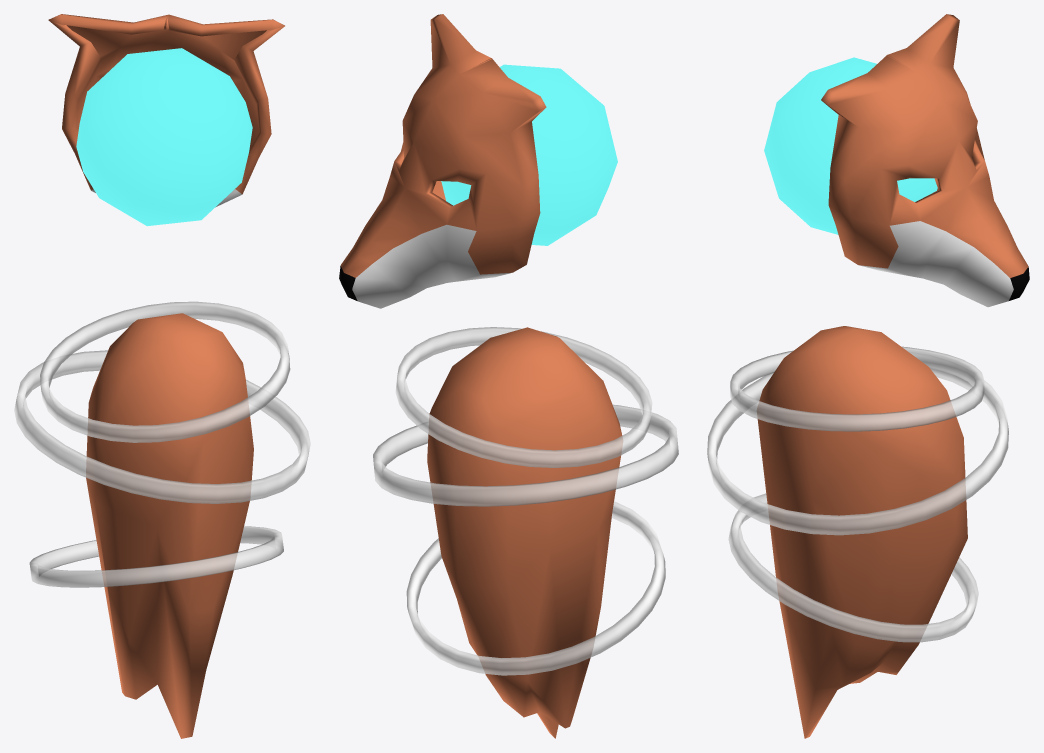
The model's file is Venn Spirit.fbx.
3 renders of one model, left to right at view 1: azimuth 30°, elevation 25°; view 2: azimuth 150°, elevation 25°; view 3: azimuth 270°, elevation 25°, orthographic. The views are drawn at different scales.
Parts seen in each view (by area): view 1: Body, Head, Loop 3; view 2: Body, Head, Loop 3; view 3: Body, Head, Loop 3.
Boxes of the visible parts, bbox=[...] form: Body: bbox=[86, 313, 253, 738]; Head: bbox=[48, 14, 284, 226]; Loop 3: bbox=[14, 301, 310, 587]; Body: bbox=[427, 327, 622, 738]; Head: bbox=[339, 14, 617, 308]; Loop 3: bbox=[373, 327, 678, 675]; Body: bbox=[757, 326, 967, 738]; Head: bbox=[764, 14, 1029, 307]; Loop 3: bbox=[707, 346, 1008, 642].
Size of the model in its own units: 153 by 392 by 164.
